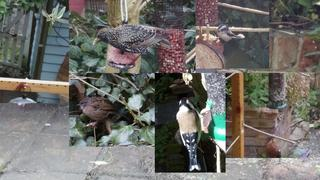dunnock: (75, 97, 131, 128)
goldfinch: (176, 97, 202, 172)
long tailed tit: (214, 24, 245, 45)
starling: (93, 24, 172, 54)
